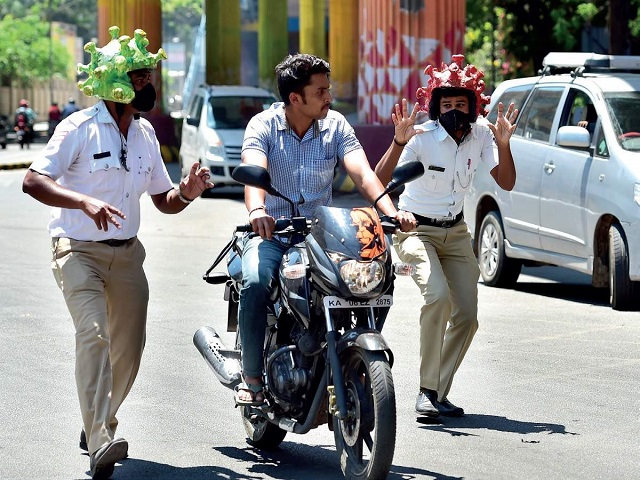bike: (192, 208, 418, 480)
car: (488, 68, 640, 306), (182, 85, 248, 184)
person: (31, 32, 214, 475), (387, 48, 516, 421), (244, 53, 364, 392)
